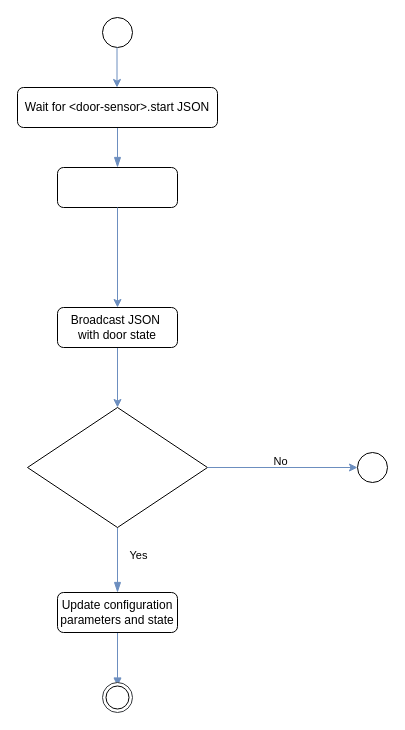
This 405x730 diagram has some shape labels left out. The shapes that lost their labels are listed below. From the top down, each one's box as (x1, y1, x2, y2) in pixels, then its label:
(56, 166, 178, 208): digitalRead()
(26, 406, 208, 528): JSON message to:<door_sensor_unique_id
